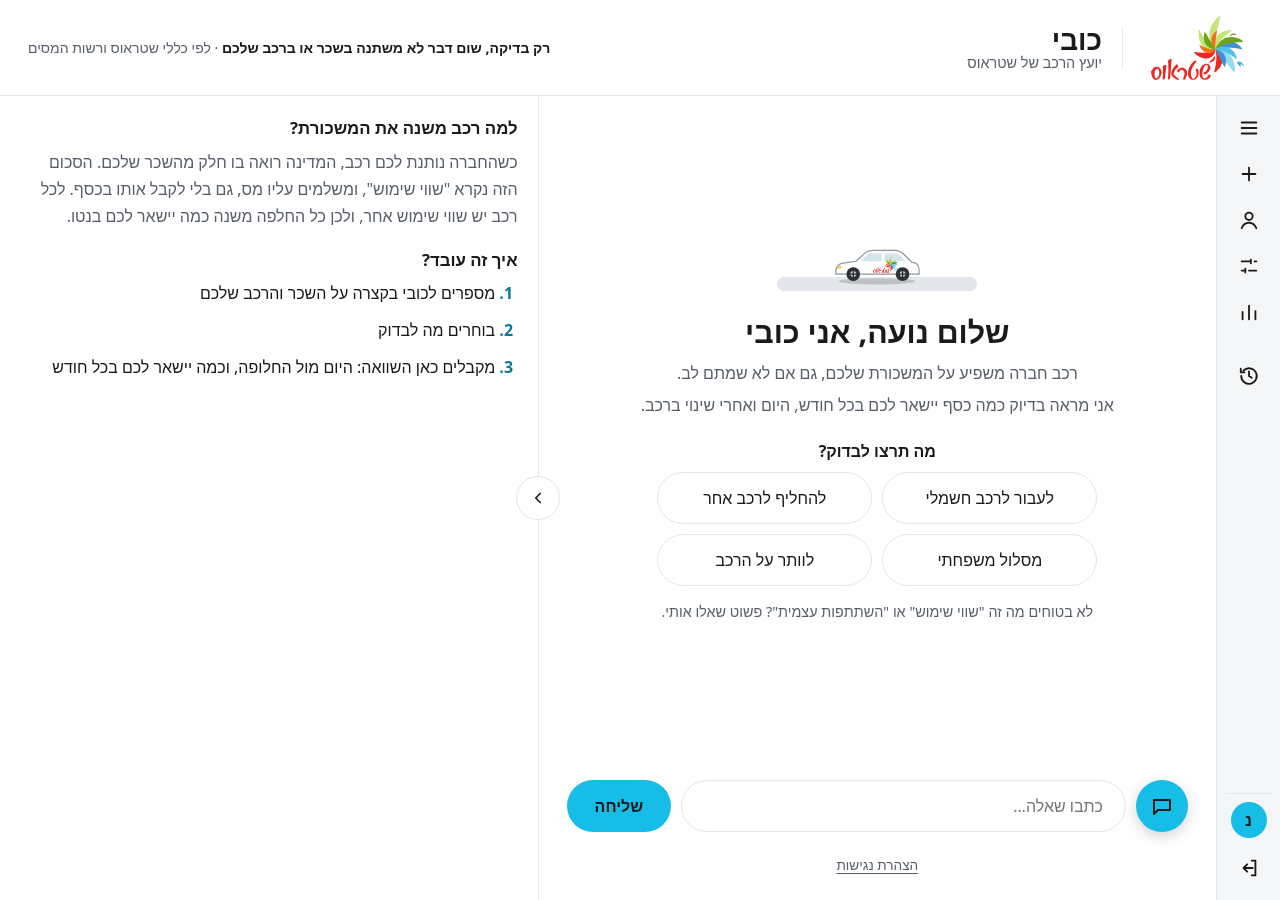
Test case: the window › every option has a clear label, in two named groups
Click the 3rd button named "התאמה אישית": x=1248, y=266 [1225,244,1272,288]
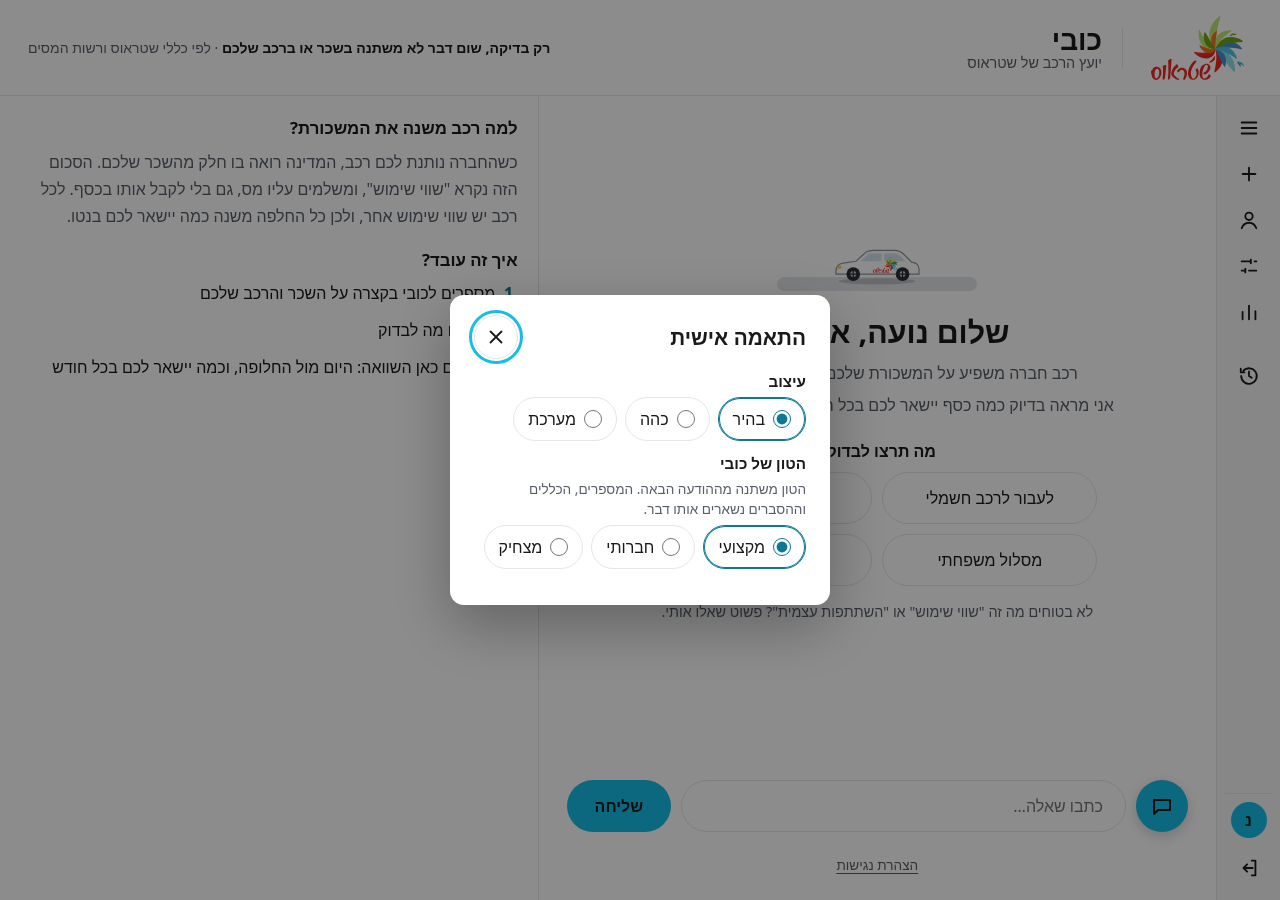
Result: the radio button labelled "בהיר" is shown at [773,410,791,428]
Result: the radio button labelled "כהה" is shown at [677,410,695,428]
Result: the radio button labelled "מערכת" is shown at [584,410,602,428]
